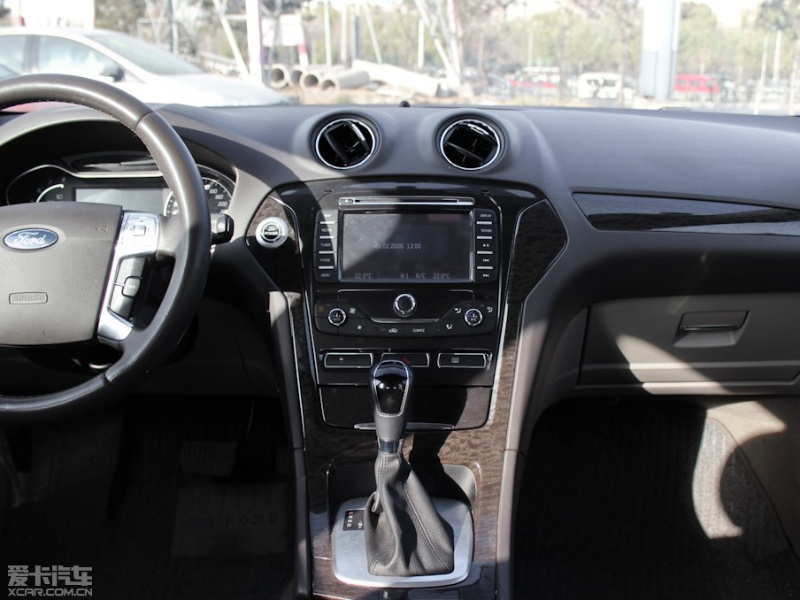control_center: (255, 104, 551, 355)
gear_lever: (327, 350, 466, 569)
odometer: (12, 136, 244, 209)
steering_wheel: (1, 84, 218, 393)
